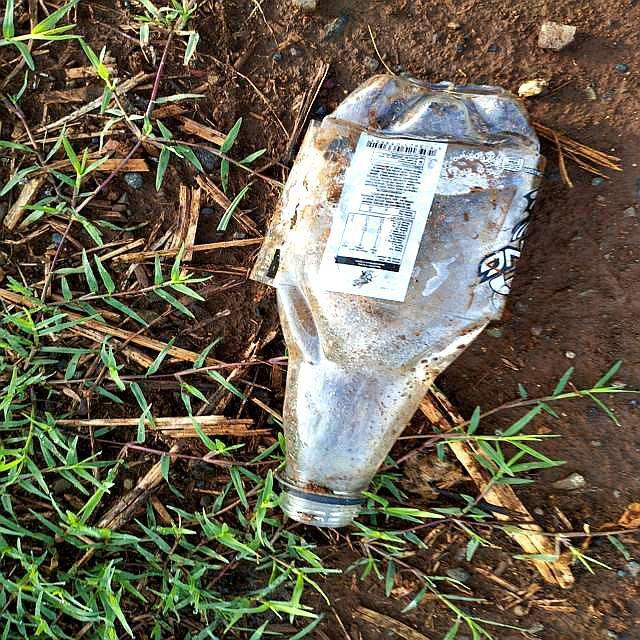Non-biodegradable: (271, 71, 545, 523)
